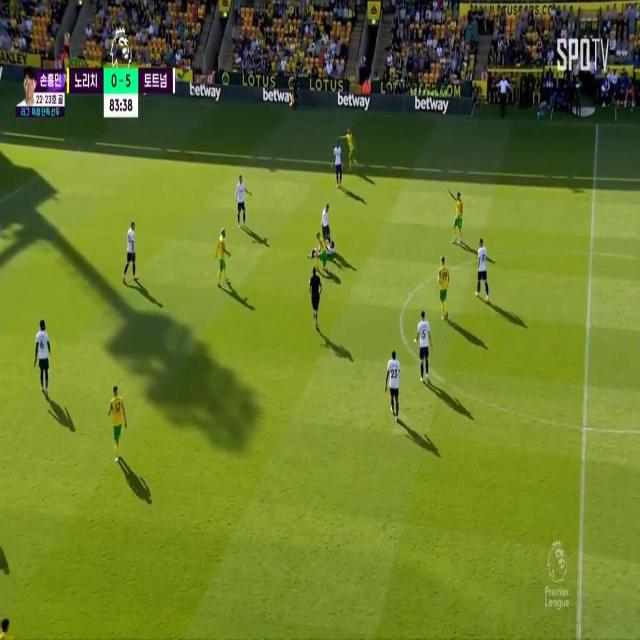player: (308, 242, 347, 282), (111, 383, 124, 462), (387, 349, 401, 417), (216, 228, 232, 286), (38, 319, 50, 393), (125, 218, 138, 280), (437, 253, 449, 316), (477, 231, 487, 304), (235, 165, 247, 223), (418, 309, 428, 376), (332, 144, 345, 192), (454, 187, 465, 243), (317, 199, 333, 236), (346, 121, 356, 168), (0, 612, 11, 640)
